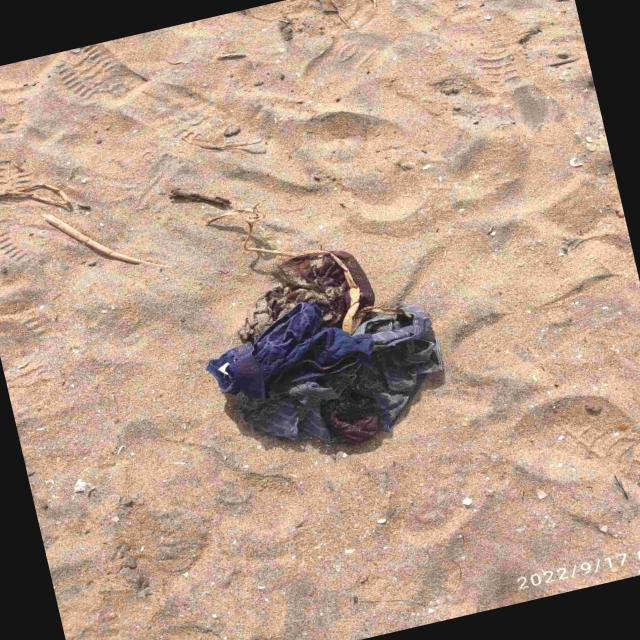vai_vun: (206, 300, 442, 445), (237, 253, 350, 342), (330, 250, 374, 309)
